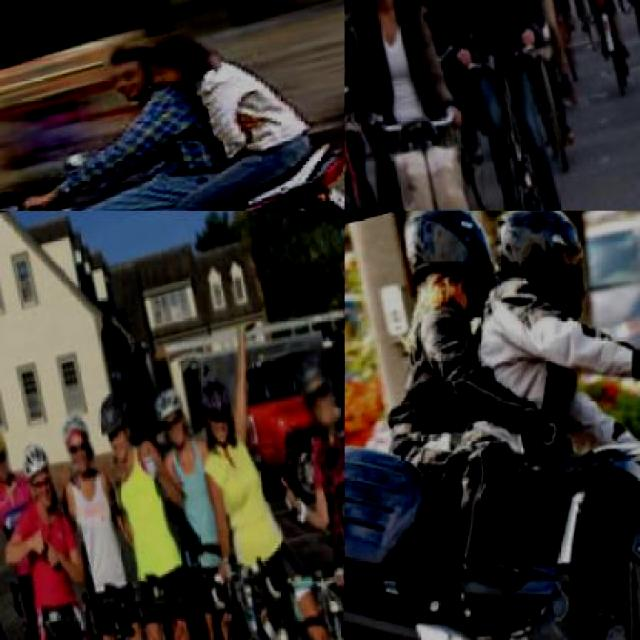With Helmet: (472, 211, 620, 340), (388, 211, 515, 323), (282, 318, 343, 437), (192, 357, 262, 457), (83, 374, 157, 466), (144, 372, 211, 456), (14, 427, 78, 513), (56, 397, 112, 474), (0, 416, 28, 482)
Without Helmet: (139, 15, 232, 86), (102, 30, 166, 88)
